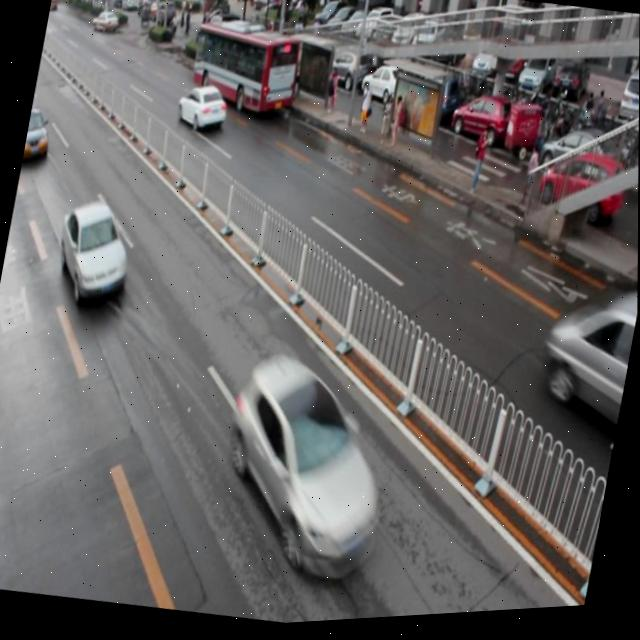car: (209, 347, 404, 586), (50, 192, 138, 309), (174, 80, 231, 137), (22, 105, 55, 168)
truck: (532, 290, 638, 455)
van: (185, 18, 303, 124)
